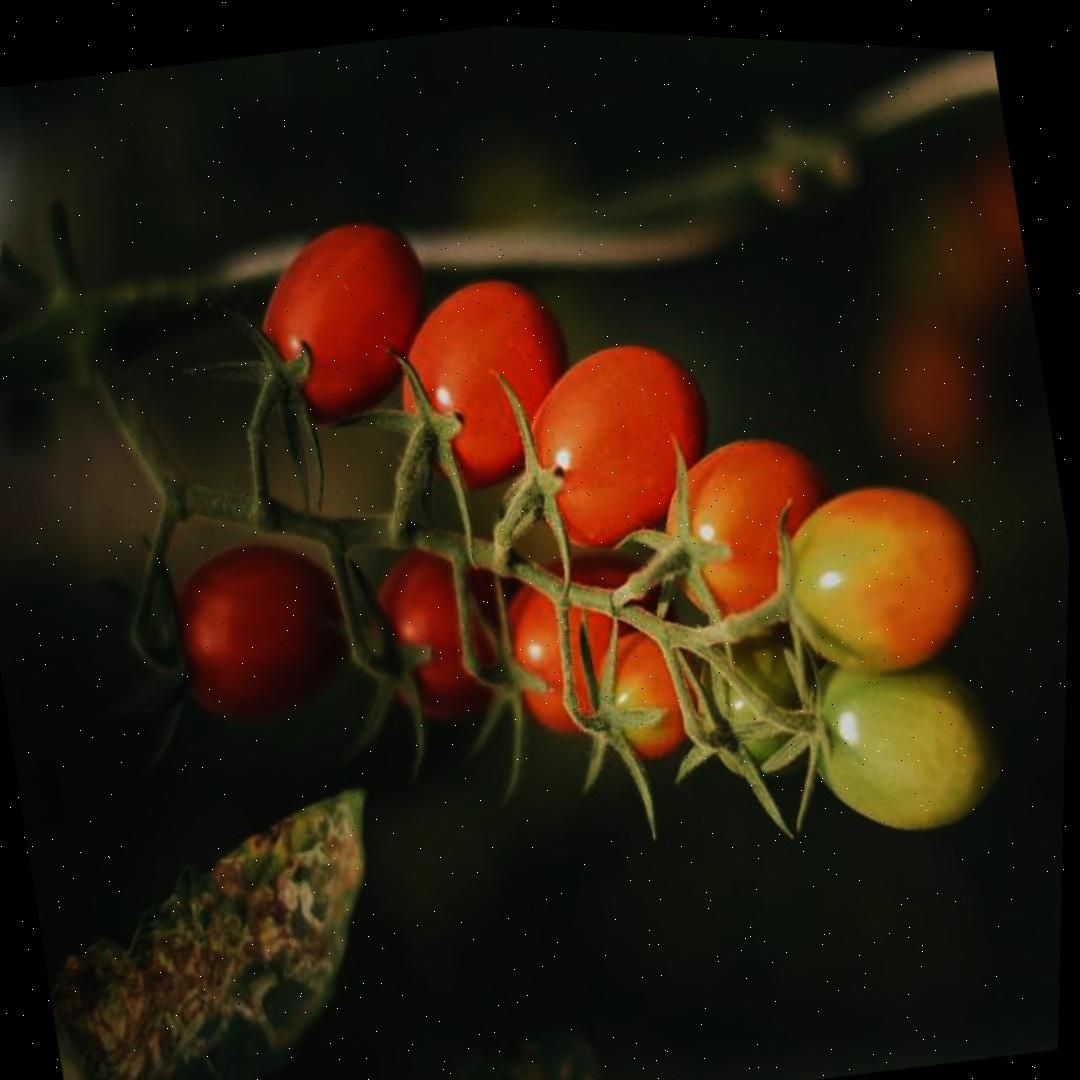matang: (510, 325, 729, 567), (383, 262, 589, 505), (239, 203, 449, 441), (159, 523, 374, 737)
mentah: (793, 629, 1014, 852)
setengah_matang: (761, 465, 997, 696)
